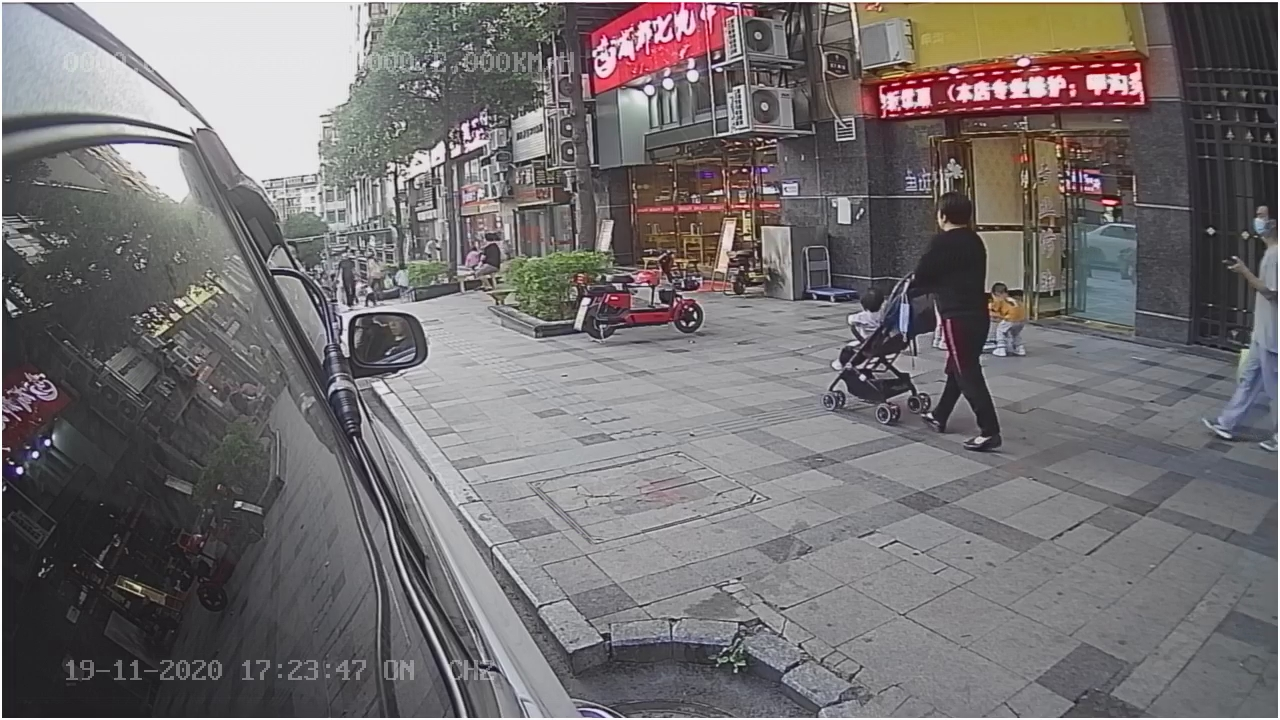person: (915, 191, 1009, 457)
